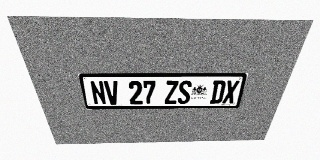2: (128, 81, 143, 104)
7: (142, 81, 156, 104)
D: (209, 80, 226, 104)
N: (89, 81, 107, 105)
S: (177, 80, 192, 104)
V: (104, 81, 120, 105)
X: (222, 80, 240, 103)
Z: (165, 81, 179, 104)
